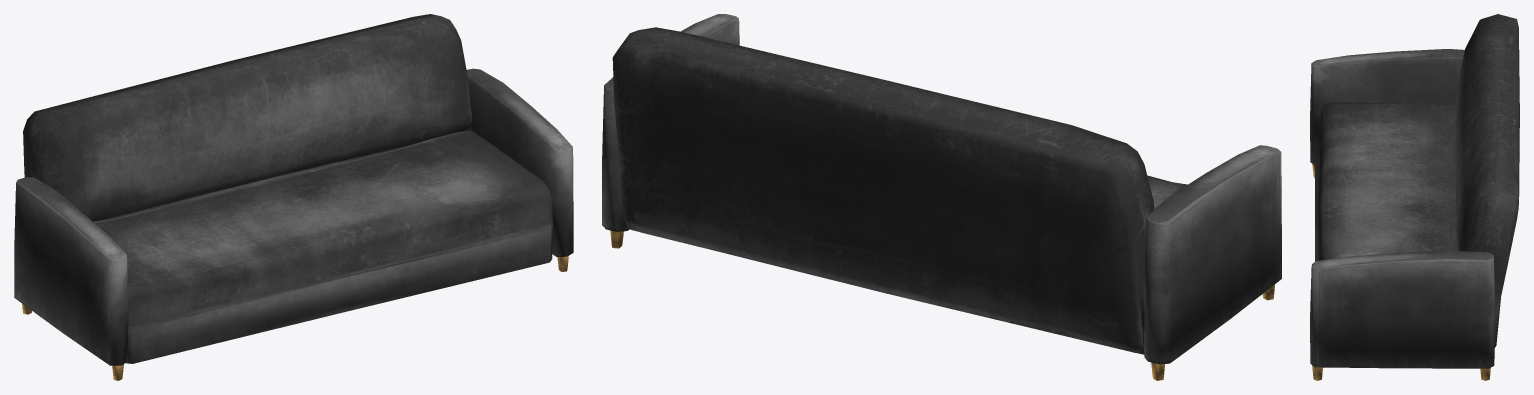
Rendered from couch.obj.
3 views of the same model, side by side, from view 1: azimuth 30°, elevation 25°; view 2: azimuth 150°, elevation 25°; view 3: azimuth 270°, elevation 25° (orthographic). The views are drawn at different scales.
Bounding box in the file's own units: 5.87 × 2.29 × 2.46.
Materials: 1 (1 with a texture image).
